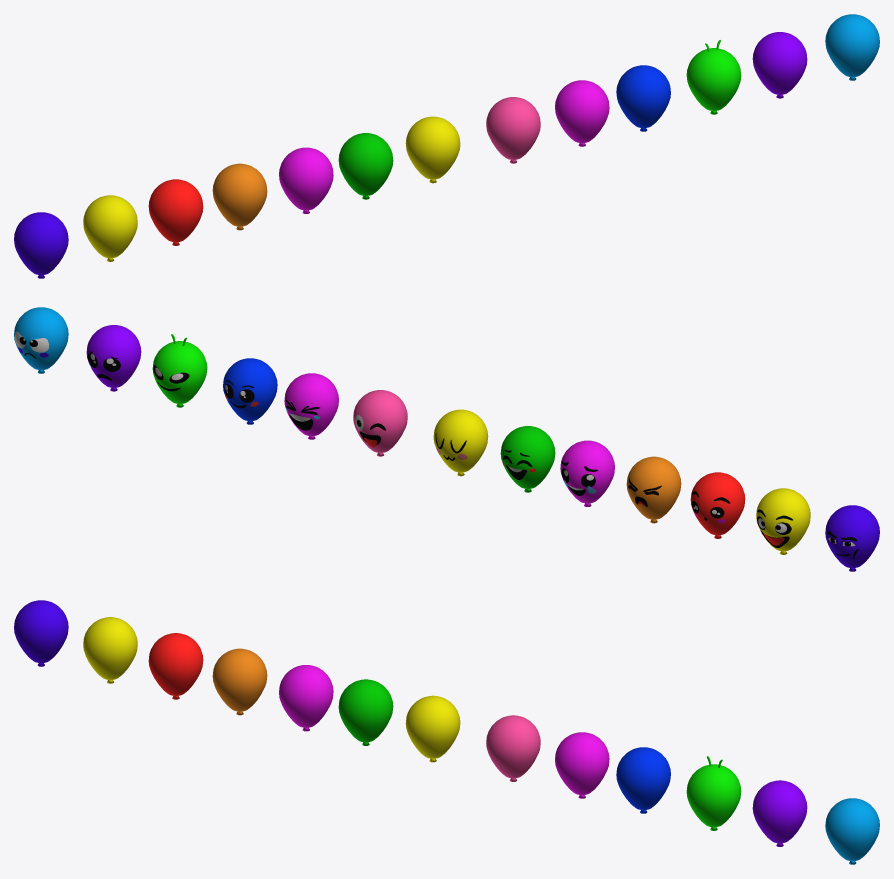
The model's file is BalloonsModel.fbx.
3 views of the same model, one above another, from view 1: azimuth 30°, elevation 25°; view 2: azimuth 150°, elevation 25°; view 3: azimuth 330°, elevation 25° (orthographic).
Visible parts, largest first — view 1: Plane.045, Ballon.003, Ballon.002, BallonModel.002, Ballon.008, Ballon.004, Ballon.007, Ballon.009, Ballon.012, Ballon.001, Ballon.006, Ballon.011 (+1 smaller); view 2: Plane.045, Ballon.003, Ballon.002, BallonModel.002, Ballon.008, Ballon.004, Ballon.007, Ballon.009, Ballon.012, Ballon.001, Ballon.006, Ballon.011 (+1 smaller); view 3: Plane.045, Ballon.004, Ballon.003, Ballon.005, Ballon.007, Ballon.008, Ballon.009, Ballon.012, Ballon.011, BallonModel.002, Ballon.002, Ballon.006 (+1 smaller).
Part boxes in pixels (x1,y1,x2,y2): Plane.045: (686,40,741,114); Ballon.003: (212,163,267,230); Ballon.002: (148,179,203,245); BallonModel.002: (14,212,68,278); Ballon.008: (555,80,609,146); Ballon.004: (279,147,333,213); Ballon.007: (486,97,540,163); Ballon.009: (616,65,670,131); Ballon.012: (825,14,879,80); Ballon.001: (83,195,137,261); Ballon.006: (405,116,460,183); Ballon.011: (752,32,807,98); Plane.045: (152,334,207,407); Ballon.003: (626,456,681,523); Ballon.002: (690,472,745,538); BallonModel.002: (825,505,879,571); Ballon.008: (284,373,338,439); Ballon.004: (560,440,614,506); Ballon.007: (353,390,407,456); Ballon.009: (223,358,277,424); Ballon.012: (14,307,68,373); Ballon.001: (756,488,810,554); Ballon.006: (433,409,488,476); Ballon.011: (86,325,141,391); Plane.045: (686,756,741,830); Ballon.004: (279,665,333,731); Ballon.003: (212,648,267,715); Ballon.005: (338,679,393,745); Ballon.007: (486,715,540,781); Ballon.008: (555,732,609,798); Ballon.009: (616,747,670,813); Ballon.012: (825,798,879,864); Ballon.011: (752,780,807,846); BallonModel.002: (14,600,68,666); Ballon.002: (148,633,203,699); Ballon.006: (405,695,460,762).
Bounding box in the file's own units: 36.22 × 2 × 2.85.
